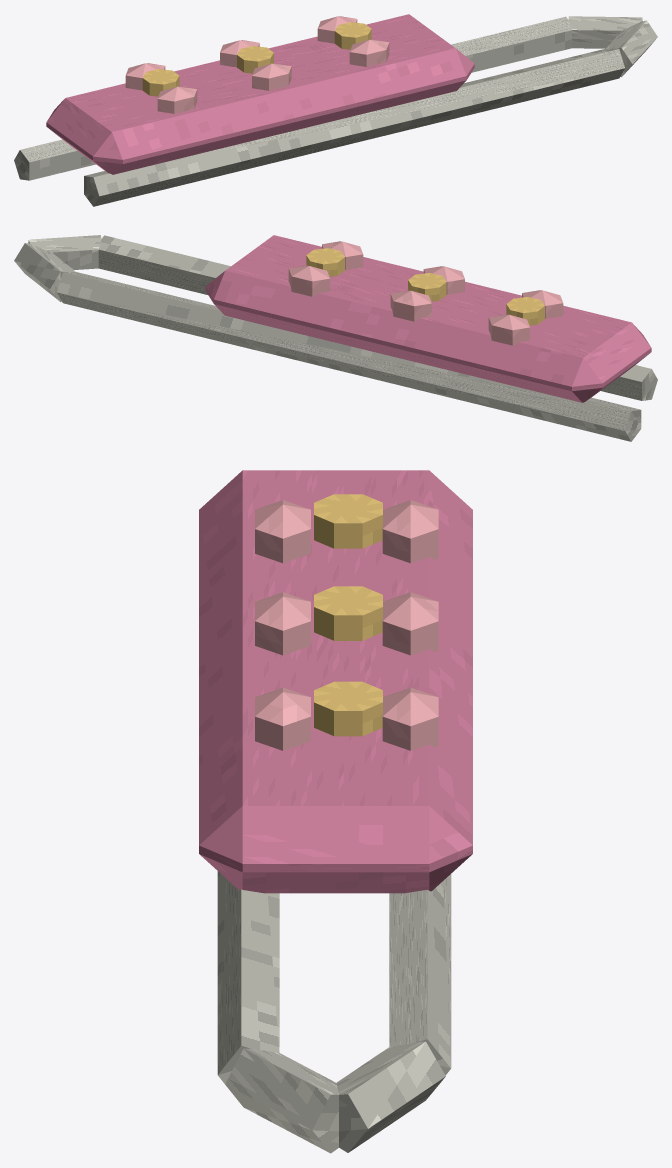
The model's file is fc_hairpin.glb.
3 views of the same model, one above another, from view 1: azimuth 30°, elevation 25°; view 2: azimuth 150°, elevation 25°; view 3: azimuth 270°, elevation 25° (orthographic). The views are drawn at different scales.
Visible parts, largest first — view 1: block_decorative clip, block_spring pin 3, block_spring pin 0, block_petal (×6), block_flower center (×3), block_spring pin 1, block_spring pin 2; view 2: block_decorative clip, block_spring pin 0, block_spring pin 3, block_petal (×6), block_flower center (×3), block_spring pin 1, block_spring pin 2; view 3: block_decorative clip, block_petal (×6), block_spring pin 3, block_flower center (×3), block_spring pin 0, block_spring pin 2, block_spring pin 1.
Boxes of the visible parts, <box> form: block_decorative clip: <box>46,14,474,174</box>; block_spring pin 3: <box>84,48,624,206</box>; block_spring pin 0: <box>14,16,571,180</box>; block_petal (×6): <box>125,16,389,113</box>; block_flower center (×3): <box>142,22,371,96</box>; block_spring pin 1: <box>568,16,642,48</box>; block_spring pin 2: <box>606,20,657,77</box>; block_decorative clip: <box>205,235,651,402</box>; block_spring pin 0: <box>56,272,641,441</box>; block_spring pin 3: <box>98,235,657,400</box>; block_petal (×6): <box>288,241,563,345</box>; block_flower center (×3): <box>306,248,544,325</box>; block_spring pin 1: <box>14,243,75,301</box>; block_spring pin 2: <box>28,235,101,269</box>; block_decorative clip: <box>199,470,472,893</box>; block_petal (×6): <box>255,500,438,750</box>; block_spring pin 3: <box>217,871,279,1101</box>; block_flower center (×3): <box>314,494,382,736</box>; block_spring pin 0: <box>389,874,451,1075</box>; block_spring pin 2: <box>225,1048,338,1153</box>; block_spring pin 1: <box>336,1041,445,1152</box>.
Bounding box in the file's own units: 0.045 × 0.00632 × 0.00876.
Materials: 1 (1 with a texture image).
